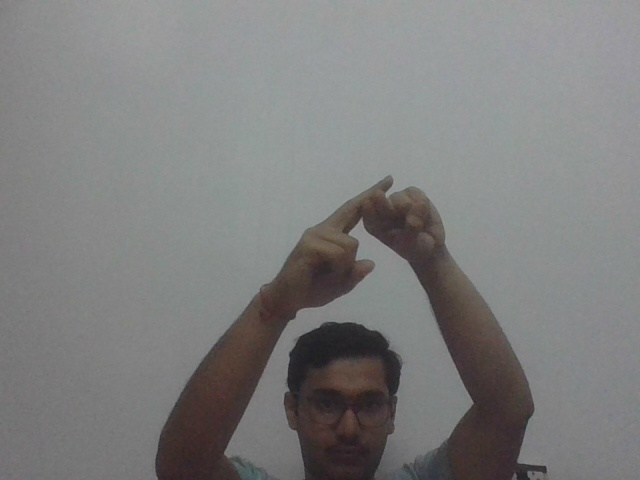F: (300, 170, 456, 308)
